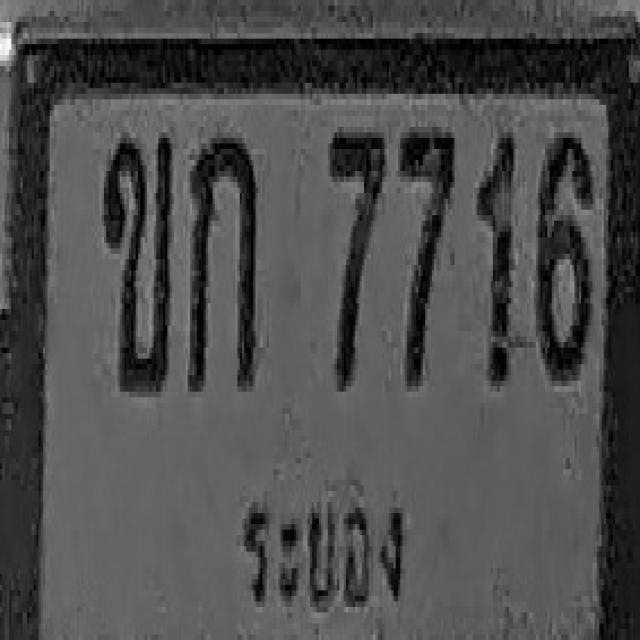1: (478, 130, 514, 383)
10GorGai: (189, 132, 257, 386)
11KhorKhai: (103, 132, 173, 392)
6: (537, 130, 591, 378)
7: (328, 127, 384, 386), (400, 124, 455, 384)
Rayong: (225, 471, 415, 638)
